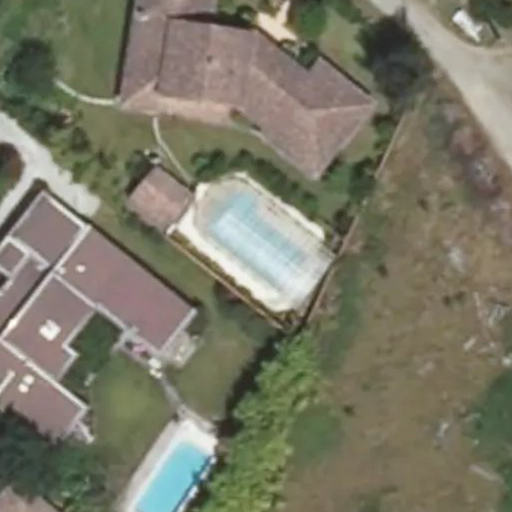pool: (202, 227, 309, 255)
